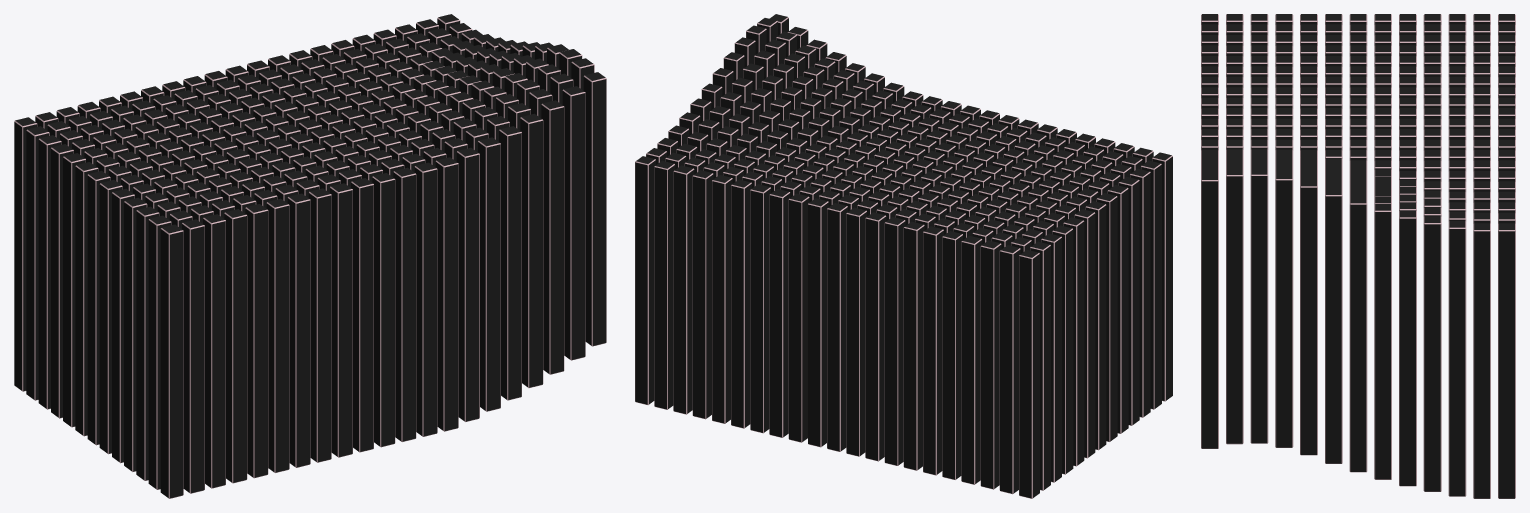
File: Waves.fbx
The picture shows the model from 3 angles, left to right: view 1: azimuth 30°, elevation 25°; view 2: azimuth 150°, elevation 25°; view 3: azimuth 270°, elevation 25°; orthographic projection. The views are drawn at different scales.
Visible parts, largest first — view 1: Plane; view 2: Plane; view 3: Plane.
Part boxes in pixels (box(x1,y1,x2,y2)): Plane: box(14, 14, 606, 498); Plane: box(635, 14, 1172, 498); Plane: box(1201, 14, 1515, 498).
Size of the model in its own units: 518 by 362 by 318.
